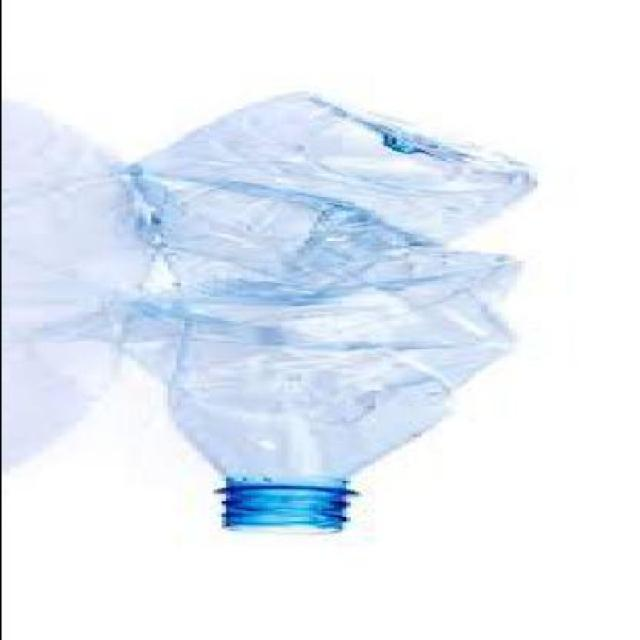PLASTIC: (108, 94, 540, 540)
